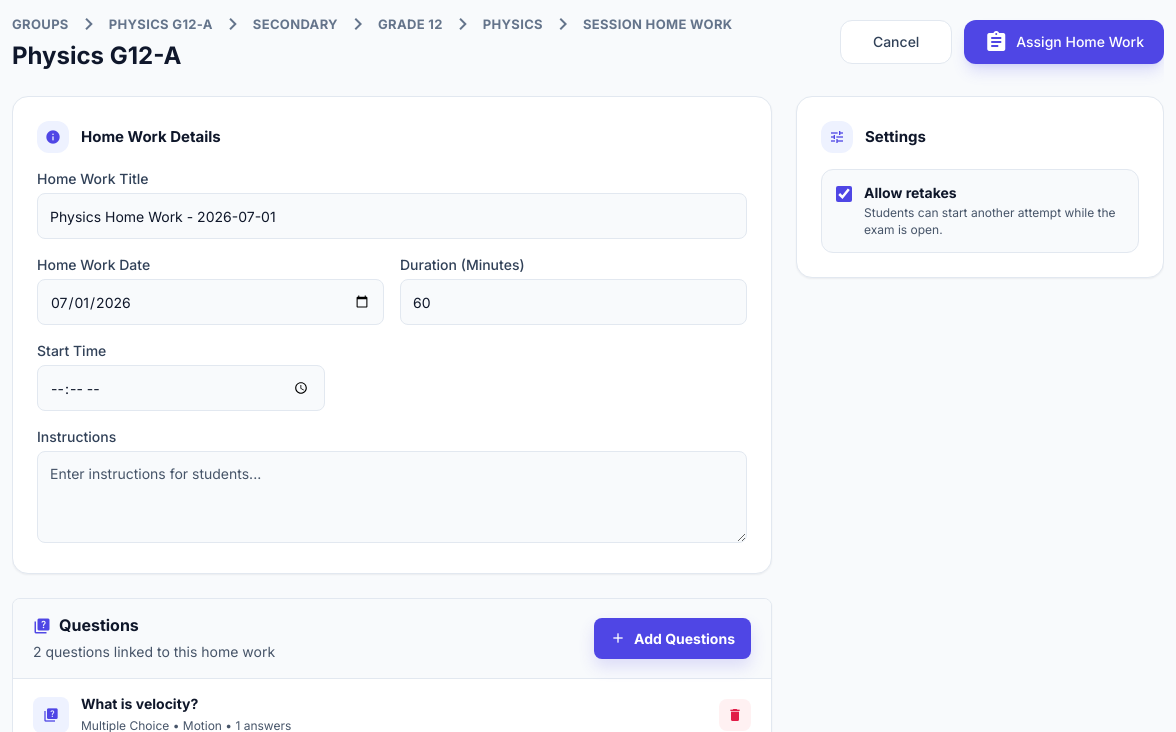
Test case: TenantGroupExamCreateComponent › deletes a linked home work question from the questions section
Click the button named "Delete question What is velocity?".
click(735, 715)  # box [719,699,751,731]
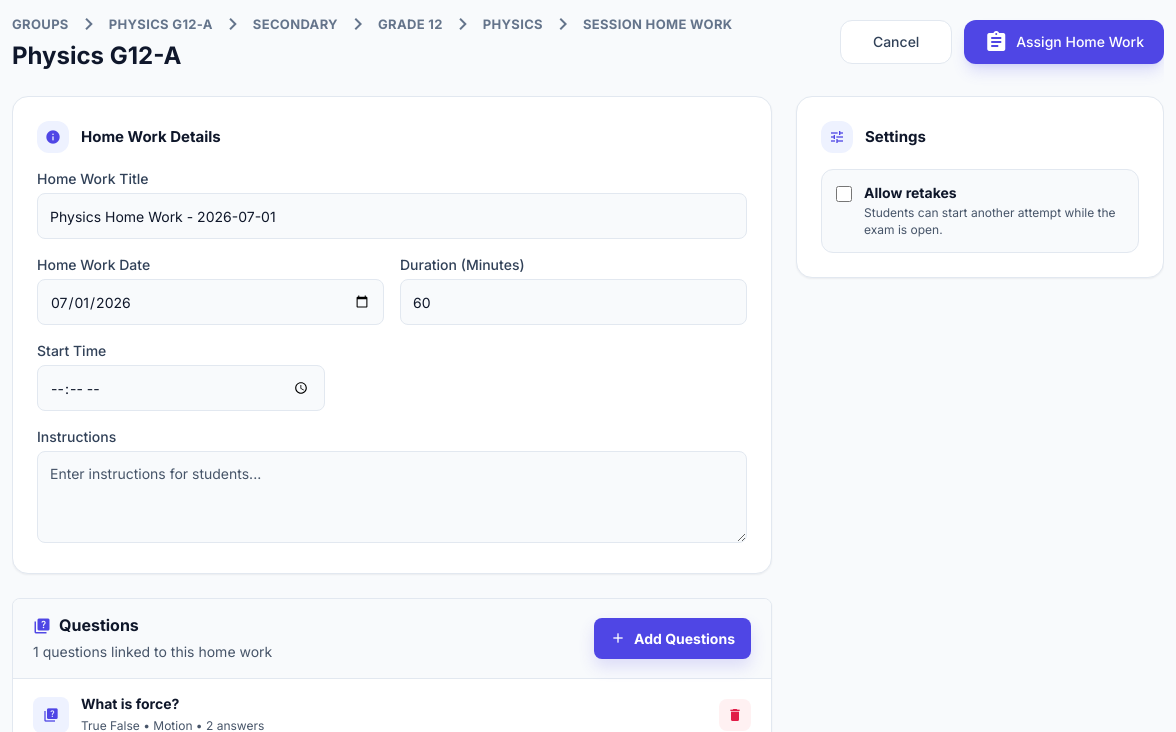
Expected: the text "What is force?" is shown, [81,695,179,712]
Result: the text "1 questions linked to this home work" is shown at [33,641,272,662]
Result: the text "What is velocity?" is gone
